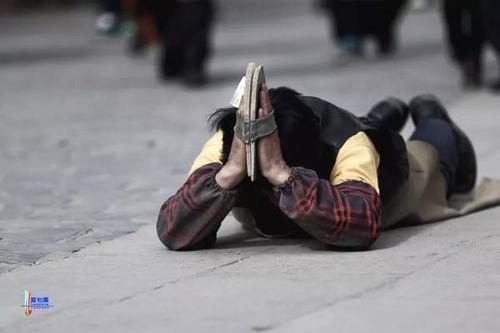Fall-Detected: (160, 55, 484, 247)
